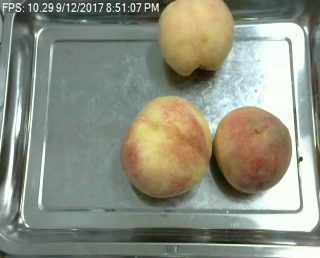Peach: (121, 95, 211, 198), (213, 105, 293, 193), (157, 2, 237, 77)
